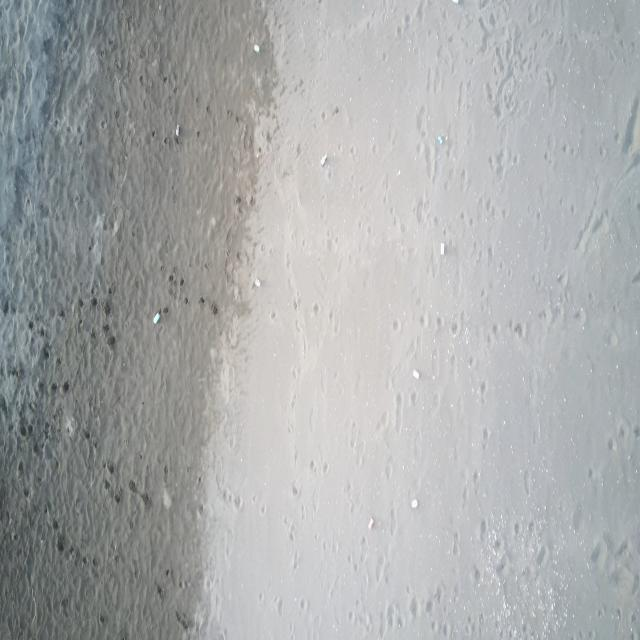Garbage: (161, 487, 171, 507), (152, 312, 160, 324), (409, 497, 417, 508), (412, 368, 420, 379), (320, 154, 327, 166), (435, 135, 444, 143), (175, 123, 180, 136), (367, 516, 372, 528), (252, 280, 260, 287), (440, 241, 444, 255), (253, 44, 259, 51), (452, 0, 459, 3)
